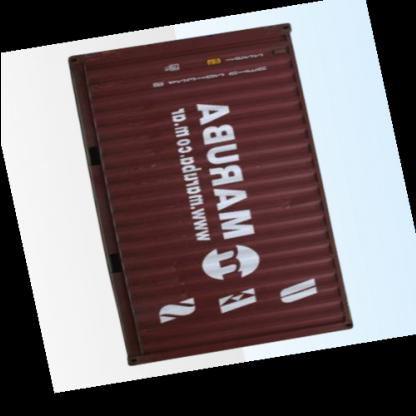Damage: (139, 128, 174, 184), (167, 264, 204, 311), (276, 198, 302, 214)
